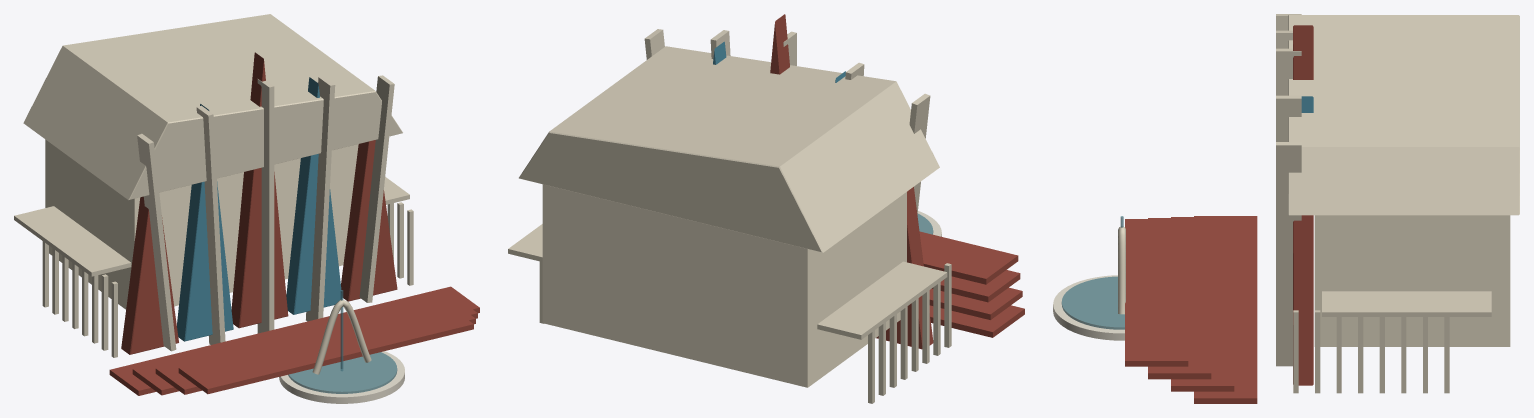
File: national-theatre.glb
3 renders of one model, left to right at view 1: azimuth 30°, elevation 25°; view 2: azimuth 150°, elevation 25°; view 3: azimuth 270°, elevation 25°, orthographic. The views are drawn at different scales.
Parts seen in each view (by area): view 1: cantilever-roof/folded-roof, auditorium-volume/auditorium, terraced-forecourt/step-4, five-point-facade/pointed-bay-3, five-point-facade/pointed-bay-4, five-point-facade/pointed-bay-2, crescent-fountain/basin, five-point-facade/pointed-bay-5, five-point-facade/pointed-bay-1, side-colonnade/gallery-slab, concrete-fins/fin-3, concrete-fins/fin-4 (+18 smaller); view 2: cantilever-roof/folded-roof, auditorium-volume/auditorium, side-colonnade/gallery-slab, terraced-forecourt/step-4, five-point-facade/pointed-bay-1, terraced-forecourt/step-1, terraced-forecourt/step-2, terraced-forecourt/step-3, five-point-facade/pointed-bay-3, concrete-fins/fin-1, side-colonnade/gallery--1-8, side-colonnade/gallery--1-6 (+6 smaller); view 3: cantilever-roof/folded-roof, auditorium-volume/auditorium, terraced-forecourt/step-4, terraced-forecourt/step-1, terraced-forecourt/step-2, terraced-forecourt/step-3, side-colonnade/gallery-slab, concrete-fins/fin-5, crescent-fountain/basin, five-point-facade/pointed-bay-5, crescent-fountain/water, five-point-facade/pointed-bay-3 (+10 smaller).
Part boxes in pixels (x1,y1,x2,y2): cantilever-roof/folded-roof: [23, 14, 402, 199]; auditorium-volume/auditorium: [45, 139, 358, 309]; terraced-forecourt/step-4: [178, 303, 473, 394]; five-point-facade/pointed-bay-3: [231, 52, 288, 328]; five-point-facade/pointed-bay-4: [286, 77, 341, 314]; five-point-facade/pointed-bay-2: [177, 104, 233, 341]; crescent-fountain/basin: [279, 351, 404, 403]; five-point-facade/pointed-bay-5: [341, 140, 397, 301]; five-point-facade/pointed-bay-1: [121, 196, 178, 354]; side-colonnade/gallery-slab: [14, 177, 409, 276]; concrete-fins/fin-3: [257, 79, 274, 333]; concrete-fins/fin-4: [306, 76, 335, 321]; cantilever-roof/folded-roof: [519, 46, 939, 252]; auditorium-volume/auditorium: [542, 184, 906, 387]; side-colonnade/gallery-slab: [508, 224, 947, 339]; terraced-forecourt/step-4: [919, 231, 1018, 284]; five-point-facade/pointed-bay-1: [876, 187, 933, 349]; terraced-forecourt/step-1: [929, 305, 1024, 337]; terraced-forecourt/step-2: [929, 287, 1022, 319]; terraced-forecourt/step-3: [932, 270, 1020, 302]; five-point-facade/pointed-bay-3: [770, 14, 789, 74]; concrete-fins/fin-1: [909, 93, 930, 214]; side-colonnade/gallery--1-8: [944, 263, 951, 347]; side-colonnade/gallery--1-6: [922, 290, 929, 363]; cantilever-roof/folded-roof: [1288, 15, 1519, 215]; auditorium-volume/auditorium: [1314, 215, 1510, 346]; terraced-forecourt/step-4: [1125, 219, 1188, 366]; terraced-forecourt/step-1: [1194, 216, 1257, 403]; terraced-forecourt/step-2: [1171, 217, 1234, 391]; terraced-forecourt/step-3: [1148, 218, 1211, 379]; side-colonnade/gallery-slab: [1322, 291, 1491, 316]; concrete-fins/fin-5: [1276, 142, 1301, 366]; crescent-fountain/basin: [1053, 275, 1124, 340]; five-point-facade/pointed-bay-5: [1293, 215, 1313, 385]; crescent-fountain/water: [1061, 276, 1124, 329]; five-point-facade/pointed-bay-3: [1293, 25, 1313, 79].
Size of the model in its own units: 15 by 12.14 by 16.23.
